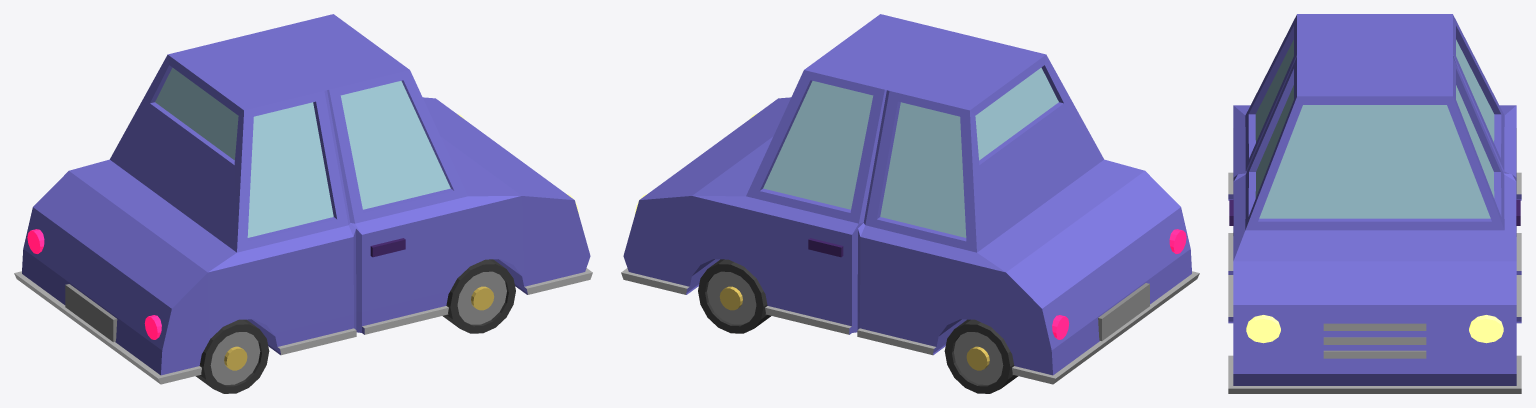
The model's file is 2_car_purple.fbx.
3 renders of one model, left to right at view 1: azimuth 30°, elevation 25°; view 2: azimuth 150°, elevation 25°; view 3: azimuth 270°, elevation 25°, orthographic.
Visible parts, largest first — view 1: Cube, Cylinder, Cube.002, Cylinder.009; view 2: Cube, Cylinder, Cube.002, Cylinder.009; view 3: Cube, Cube.001, Cylinder.008, Cube.003.
Part boxes in pixels (x1,y1,x2,y2): Cube: (14,14,592,384); Cylinder: (195,259,515,393); Cube.002: (65,284,117,341); Cylinder.009: (27,229,161,339); Cube: (621,14,1199,384); Cylinder: (698,259,1018,393); Cube.002: (1098,283,1149,340); Cylinder.009: (1052,229,1186,339); Cube: (1228,14,1521,393); Cube.001: (1323,323,1426,358); Cylinder.008: (1246,315,1503,343); Cube.003: (1229,199,1520,225).
Bounding box in the file's own units: 102 × 56.41 × 58.34.
